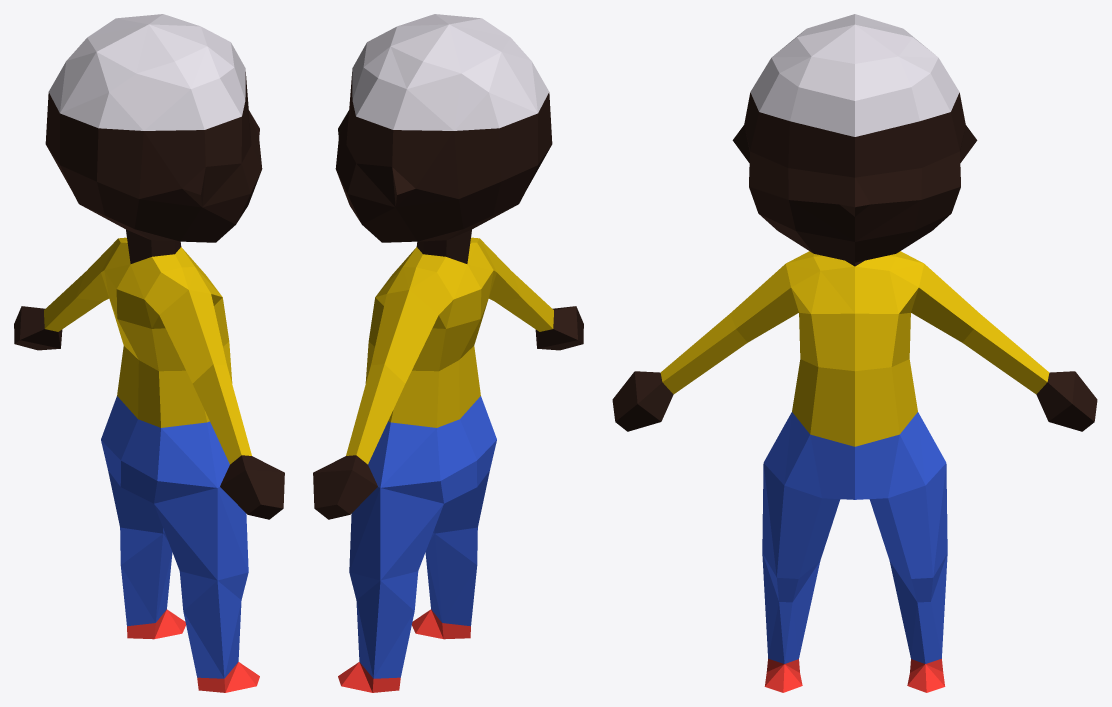
The model's file is Npc2.fbx.
The picture shows the model from 3 angles, left to right: view 1: azimuth 30°, elevation 25°; view 2: azimuth 150°, elevation 25°; view 3: azimuth 270°, elevation 25°; orthographic projection.
Parts seen in each view (by area): view 1: Human_Base.003; view 2: Human_Base.003; view 3: Human_Base.003.
Boxes of the visible parts, left/top/right/bottom form: Human_Base.003: left=14, top=14, right=284, bottom=692; Human_Base.003: left=313, top=14, right=583, bottom=692; Human_Base.003: left=612, top=14, right=1097, bottom=692.
Size of the model in its own units: 63.77 by 196 by 136.
